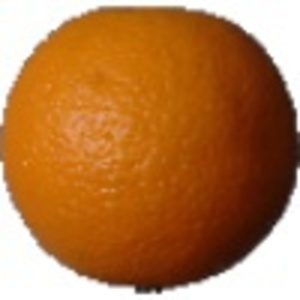laranja: (1, 5, 297, 297)
